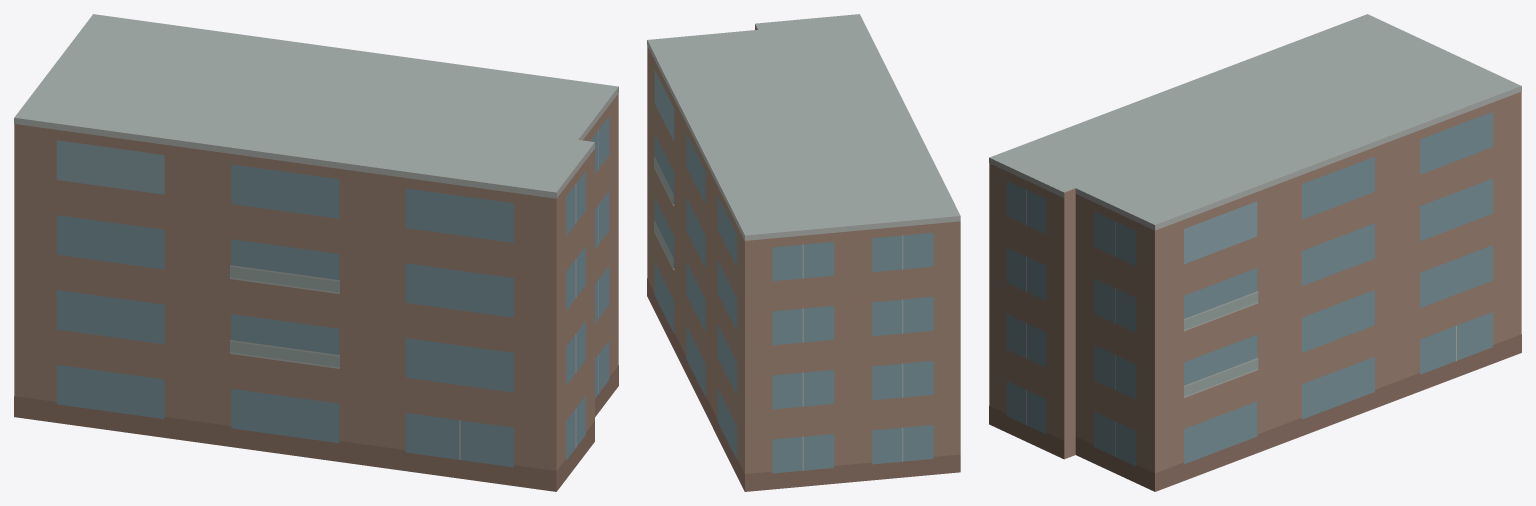
File: survey-upis-32773233.glb
3 renders of one model, left to right at view 1: azimuth 30°, elevation 25°; view 2: azimuth 150°, elevation 25°; view 3: azimuth 270°, elevation 25°, orthographic. The views are drawn at different scales.
Visible parts, largest first — view 1: survey-upis-32773233.tmp; view 2: survey-upis-32773233.tmp; view 3: survey-upis-32773233.tmp.
Boxes of the visible parts, left/top/right/bottom form: survey-upis-32773233.tmp: left=14, top=14, right=618, bottom=491; survey-upis-32773233.tmp: left=647, top=14, right=960, bottom=491; survey-upis-32773233.tmp: left=989, top=14, right=1521, bottom=491.
Bounding box in the file's own units: 20.04 × 11.8 × 21.36.
